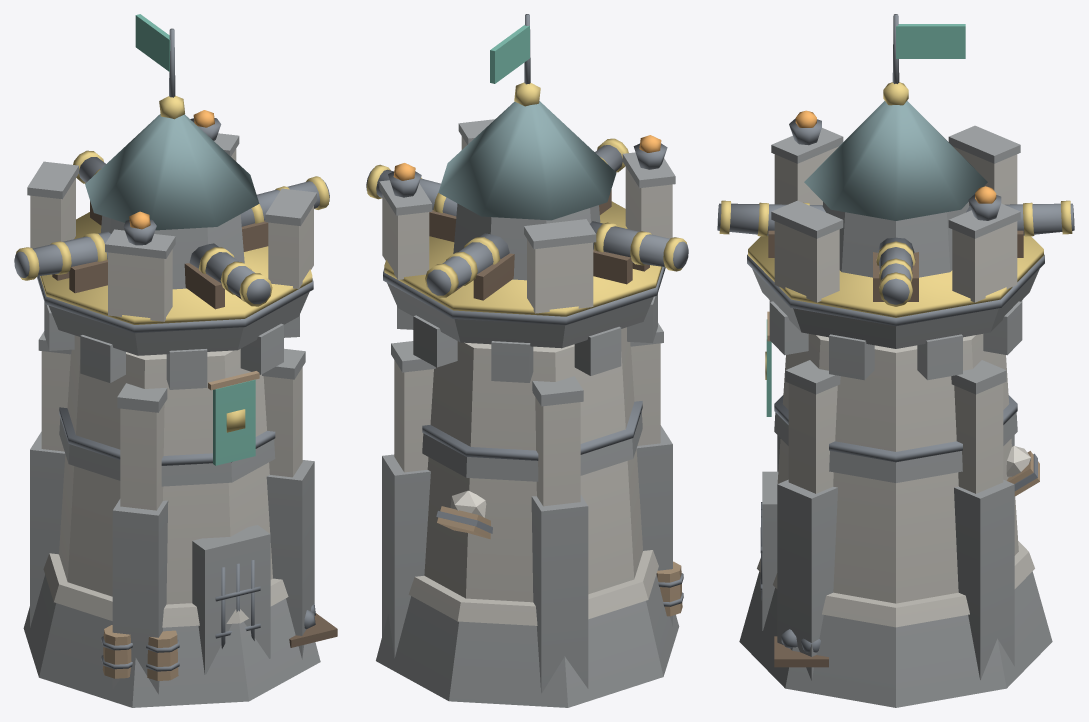
File: frontier-tactical-depth.glb
3 renders of one model, left to right at view 1: azimuth 30°, elevation 25°; view 2: azimuth 150°, elevation 25°; view 3: azimuth 270°, elevation 25°, orthographic. The views are drawn at different scales.
Visible parts, largest first — view 1: Part_stoneDark, Part_stone, Part_teamRoof, Part_iron, Part_gold, Part_team, Part_darkwood, Part_wood, Part_glow; view 2: Part_stoneDark, Part_stone, Part_teamRoof, Part_iron, Part_gold, Part_darkwood, Part_team, Part_wood, ArmBeam, ArmBoulder, Part_glow; view 3: Part_stoneDark, Part_stone, Part_teamRoof, Part_iron, Part_gold, Part_team, Part_darkwood, Part_glow.
Part boxes in pixels (x1,y1,x2,y2): Part_stoneDark: (23, 133, 320, 707); Part_stone: (30, 149, 313, 627); Part_teamRoof: (85, 114, 259, 230); Part_iron: (14, 28, 329, 671); Part_gold: (16, 95, 329, 432); Part_team: (135, 14, 255, 465); Part_darkwood: (52, 201, 337, 647); Part_wood: (102, 371, 259, 680); Part_glow: (129, 110, 214, 229); Part_stoneDark: (376, 119, 679, 707); Part_stone: (382, 136, 672, 625); Part_teamRoof: (438, 101, 616, 220); Part_iron: (366, 14, 688, 606); Part_gold: (366, 82, 687, 316); Part_darkwood: (429, 189, 649, 300); Part_team: (490, 25, 529, 83); Part_wood: (656, 561, 682, 616); ArmBeam: (437, 506, 490, 539); ArmBoulder: (450, 490, 486, 517); Part_glow: (393, 135, 661, 180); Part_stoneDark: (739, 125, 1052, 707); Part_stone: (757, 146, 1034, 627); Part_teamRoof: (804, 101, 987, 220); Part_iron: (717, 14, 1074, 652); Part_gold: (719, 82, 1072, 379); Part_team: (766, 24, 965, 416); Part_darkwood: (768, 230, 1023, 667); Part_glow: (795, 110, 996, 203).
Size of the model in its own units: 5.75 by 11.13 by 5.75.
